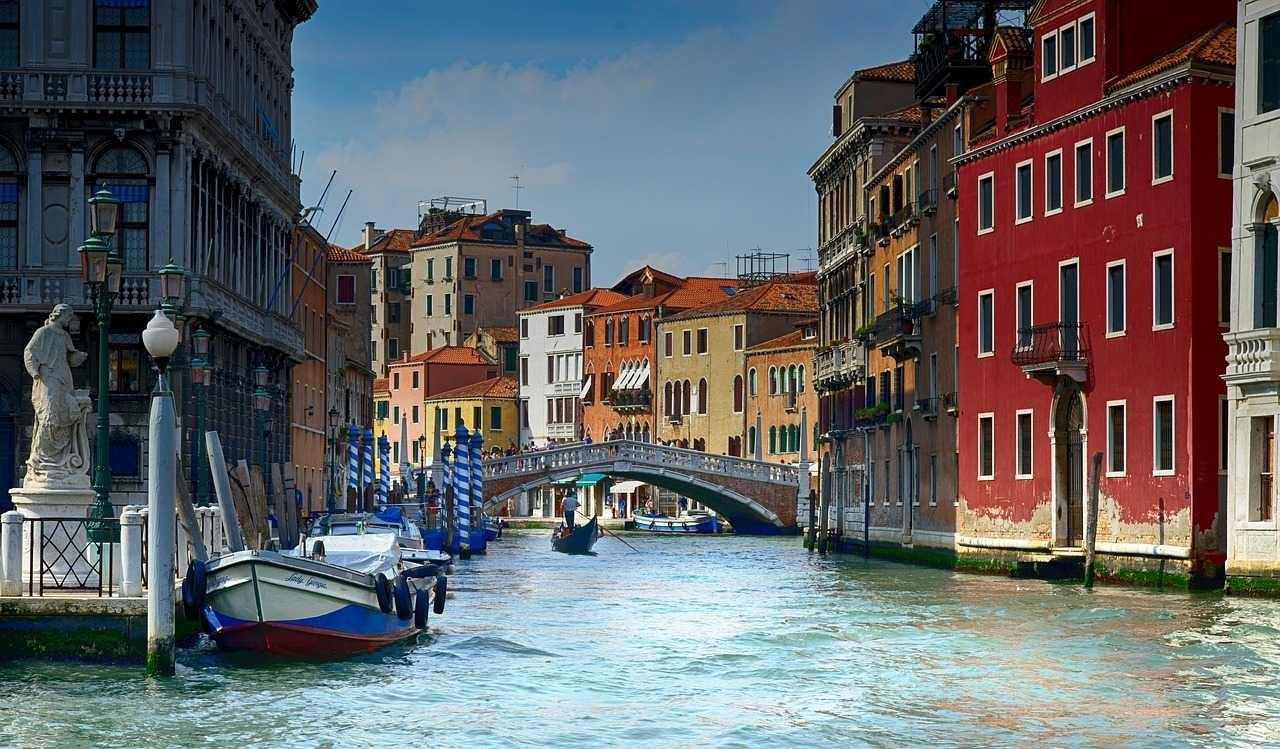kayak: (192, 532, 450, 660), (302, 509, 425, 564), (631, 501, 724, 534), (367, 506, 426, 552), (550, 515, 600, 554)
